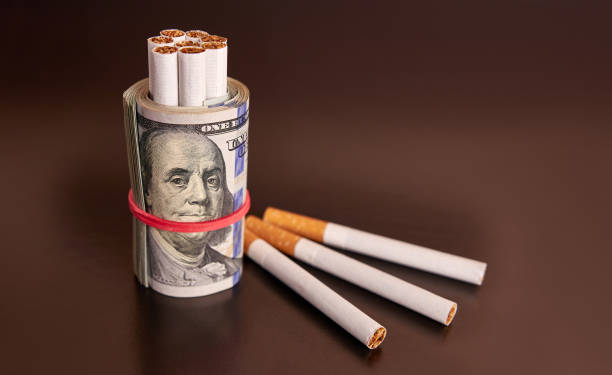cigarette: (246, 214, 458, 326), (263, 207, 486, 285), (245, 228, 387, 350), (152, 45, 180, 107), (178, 46, 206, 107), (148, 35, 174, 96), (201, 42, 228, 100), (157, 28, 187, 41), (197, 34, 228, 45), (186, 28, 208, 41), (175, 39, 200, 49)
